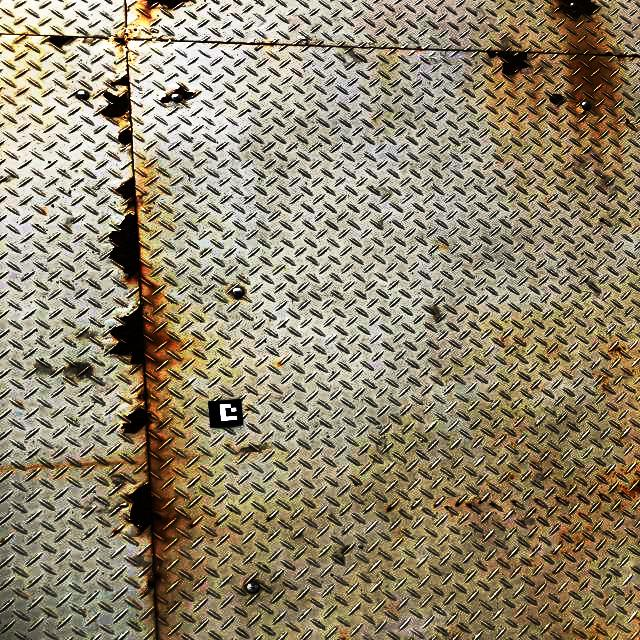Corrosion: (108, 304, 143, 364), (108, 214, 138, 278), (127, 483, 165, 533), (485, 51, 531, 76), (100, 91, 131, 120), (558, 0, 600, 20), (115, 177, 135, 214), (121, 408, 149, 433), (160, 86, 195, 103), (145, 0, 191, 9), (618, 480, 640, 497), (48, 35, 74, 48), (110, 77, 130, 90), (146, 573, 160, 590), (117, 130, 132, 145), (136, 388, 146, 402), (610, 344, 625, 352), (591, 52, 615, 56), (114, 38, 125, 44), (617, 53, 626, 59), (624, 118, 631, 125), (387, 506, 393, 511), (466, 503, 472, 508), (113, 529, 119, 534), (266, 517, 273, 521), (631, 54, 640, 57), (580, 110, 585, 115), (455, 502, 461, 506), (490, 503, 497, 506), (512, 500, 517, 504), (190, 524, 194, 527), (445, 506, 449, 509), (83, 37, 89, 39), (434, 504, 437, 507), (479, 501, 482, 504), (412, 506, 414, 509), (556, 497, 559, 499)
